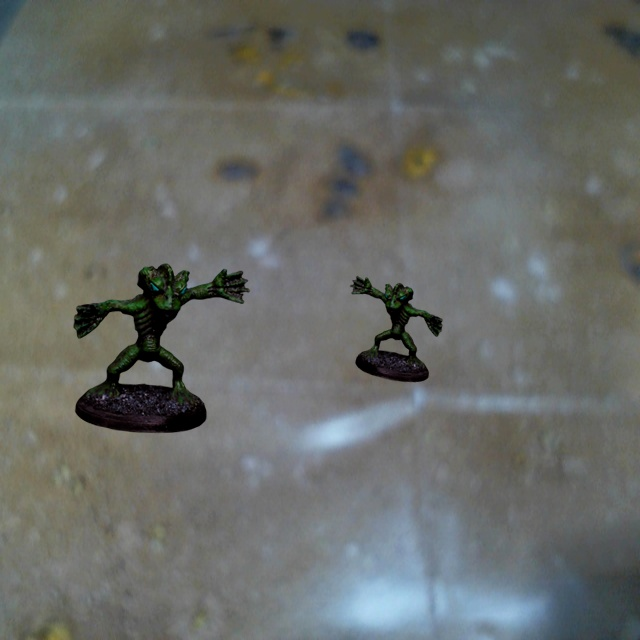pieza_juego: (73, 263, 249, 432), (350, 276, 442, 381)
